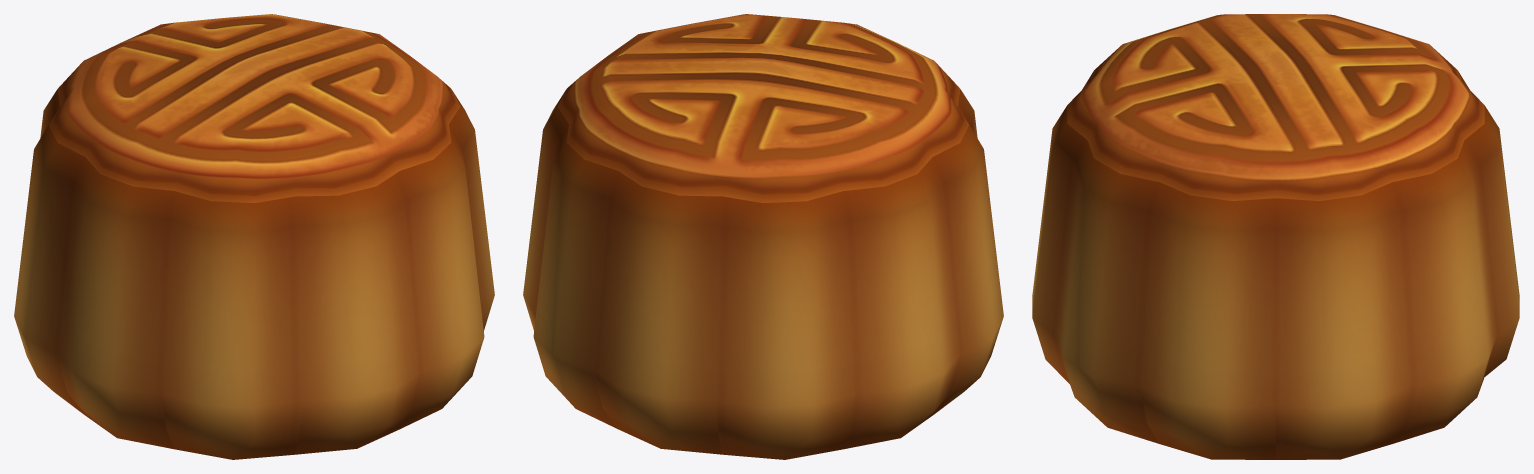
Rendered from 010-Mooncakes_002.FBX.
The picture shows the model from 3 angles, left to right: view 1: azimuth 30°, elevation 25°; view 2: azimuth 150°, elevation 25°; view 3: azimuth 270°, elevation 25°; orthographic projection.
Visible parts, largest first — view 1: 010-Mooncakes_002; view 2: 010-Mooncakes_002; view 3: 010-Mooncakes_002.
Boxes of the visible parts, x1,y1,x2,y2 form: 010-Mooncakes_002: (14,14,494,459); 010-Mooncakes_002: (523,14,1003,459); 010-Mooncakes_002: (1032,14,1519,459).
Size of the model in its own units: 11.41 by 8.24 by 11.6.
